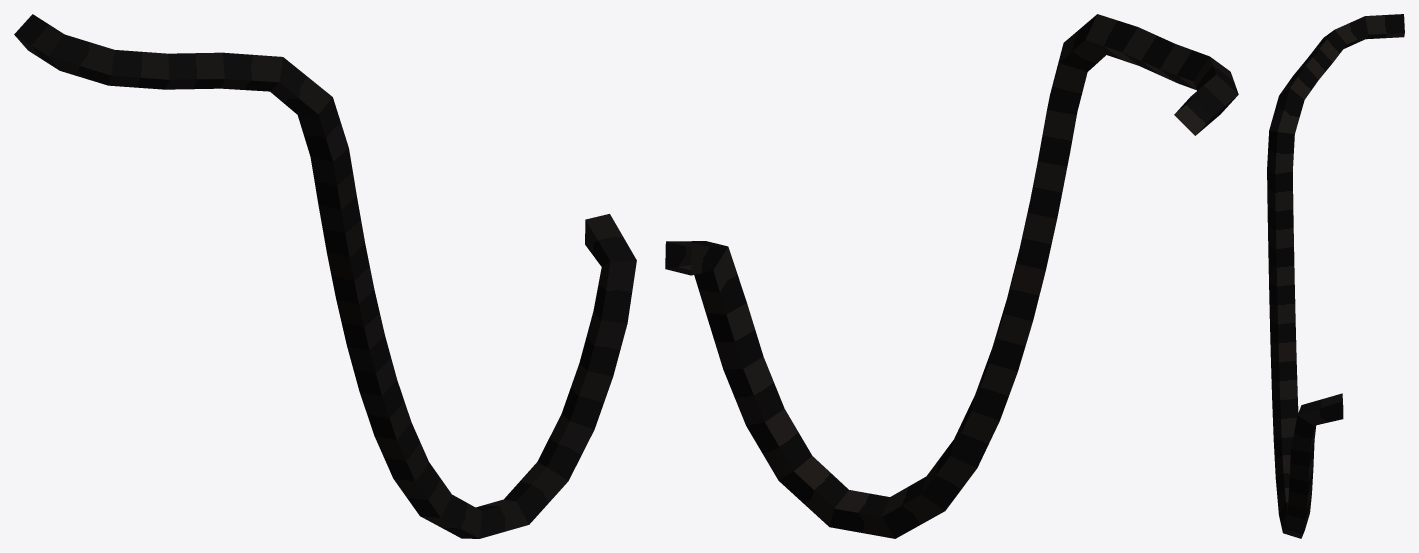
Rendered from wire_computer-computer.fbx.
3 renders of one model, left to right at view 1: azimuth 30°, elevation 25°; view 2: azimuth 150°, elevation 25°; view 3: azimuth 270°, elevation 25°, orthographic. The views are drawn at different scales.
Parts seen in each view (by area): view 1: wire_computer-computer; view 2: wire_computer-computer; view 3: wire_computer-computer.
Boxes of the visible parts, x1,y1,x2,y2 form: wire_computer-computer: [14, 14, 636, 538]; wire_computer-computer: [665, 14, 1238, 538]; wire_computer-computer: [1267, 14, 1404, 538].
Bounding box in the file's own units: 114 × 109 × 35.44.
